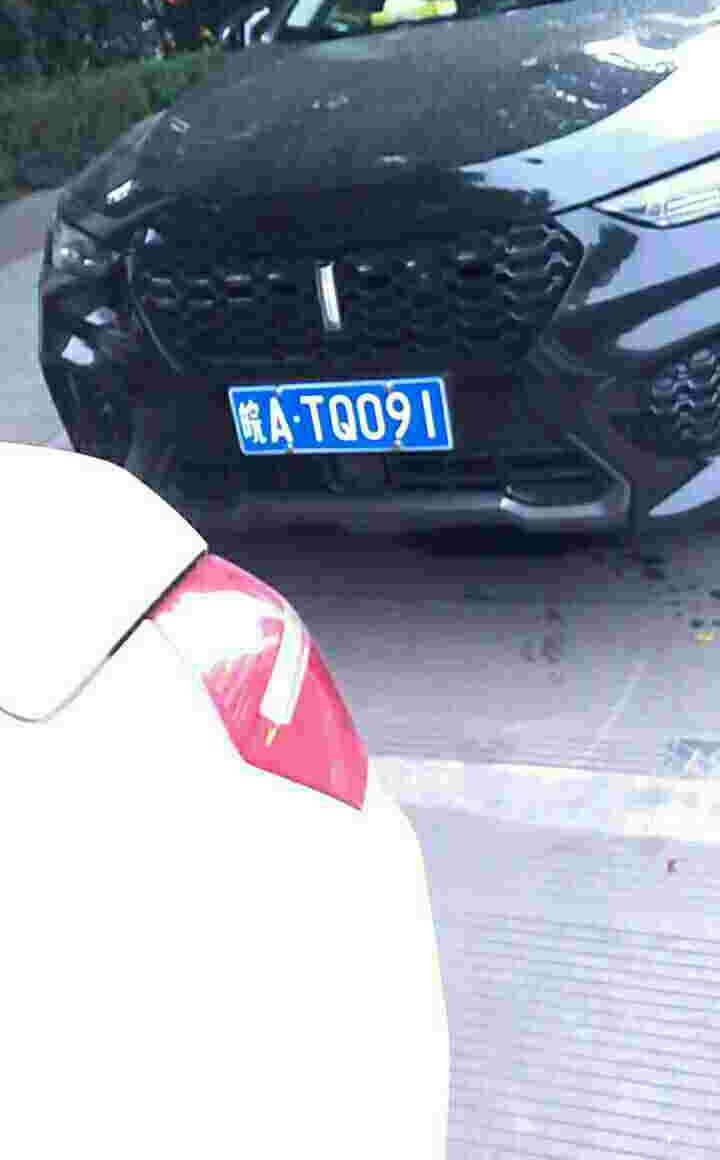license_plate: (225, 379, 458, 451)
